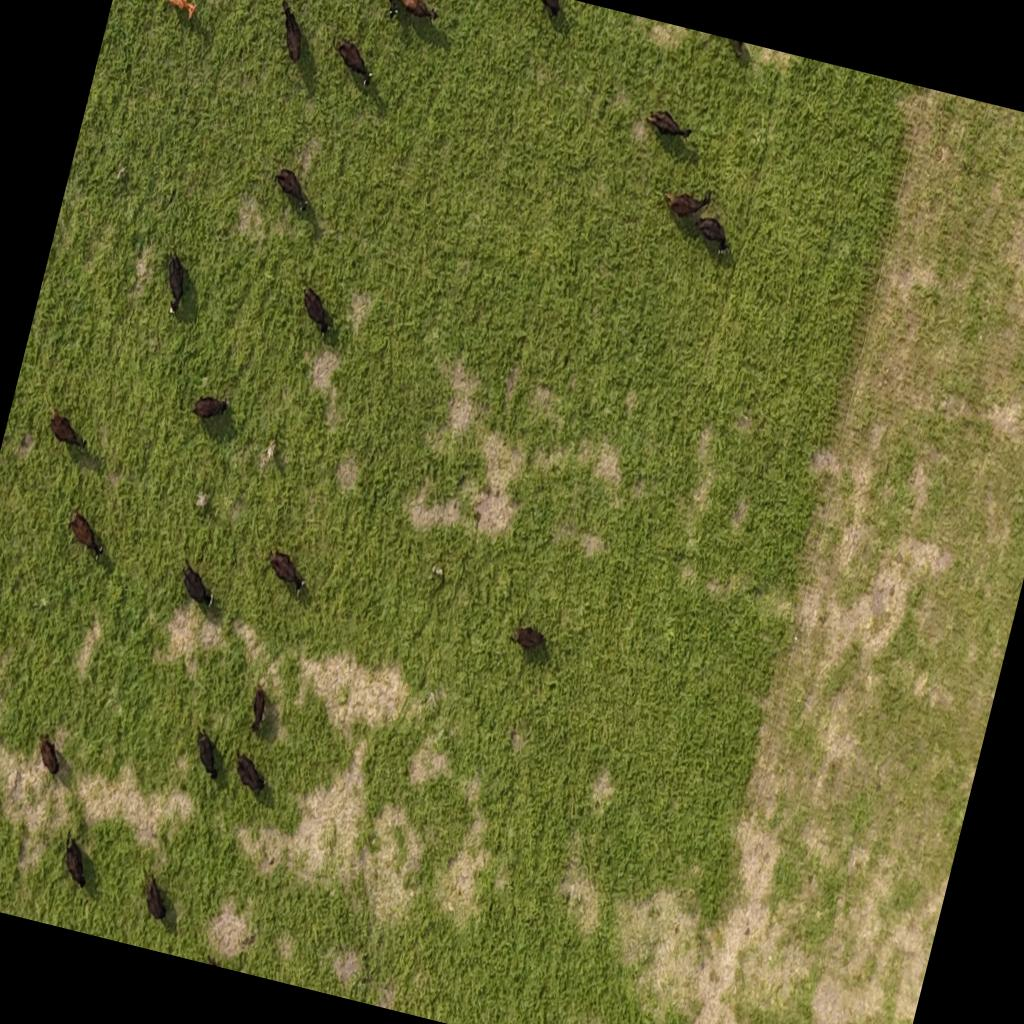cow: (151, 250, 197, 325), (640, 105, 700, 157), (267, 0, 313, 66), (324, 36, 379, 90), (266, 166, 317, 217), (260, 547, 312, 597), (62, 510, 112, 562), (135, 870, 178, 928), (660, 180, 714, 226), (54, 830, 95, 888), (172, 559, 219, 609), (294, 286, 338, 338), (688, 212, 736, 258), (504, 620, 552, 664), (186, 726, 226, 778), (228, 750, 271, 798), (43, 412, 90, 452), (30, 734, 66, 778), (244, 680, 271, 736), (190, 392, 229, 425), (395, 0, 443, 26), (151, 0, 202, 21), (364, 0, 413, 21), (719, 38, 751, 66), (531, 0, 562, 20)
